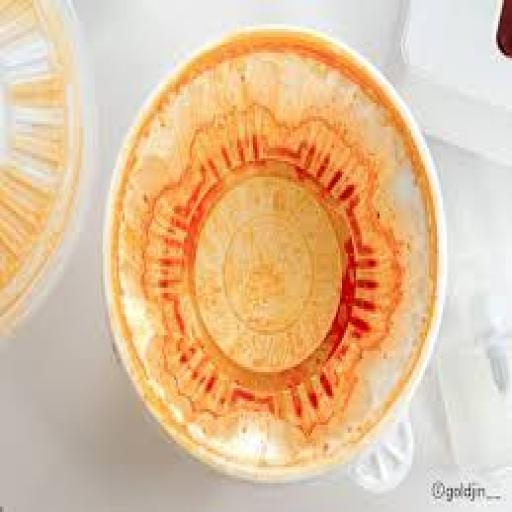plastic: (105, 29, 445, 494), (0, 0, 95, 338)
